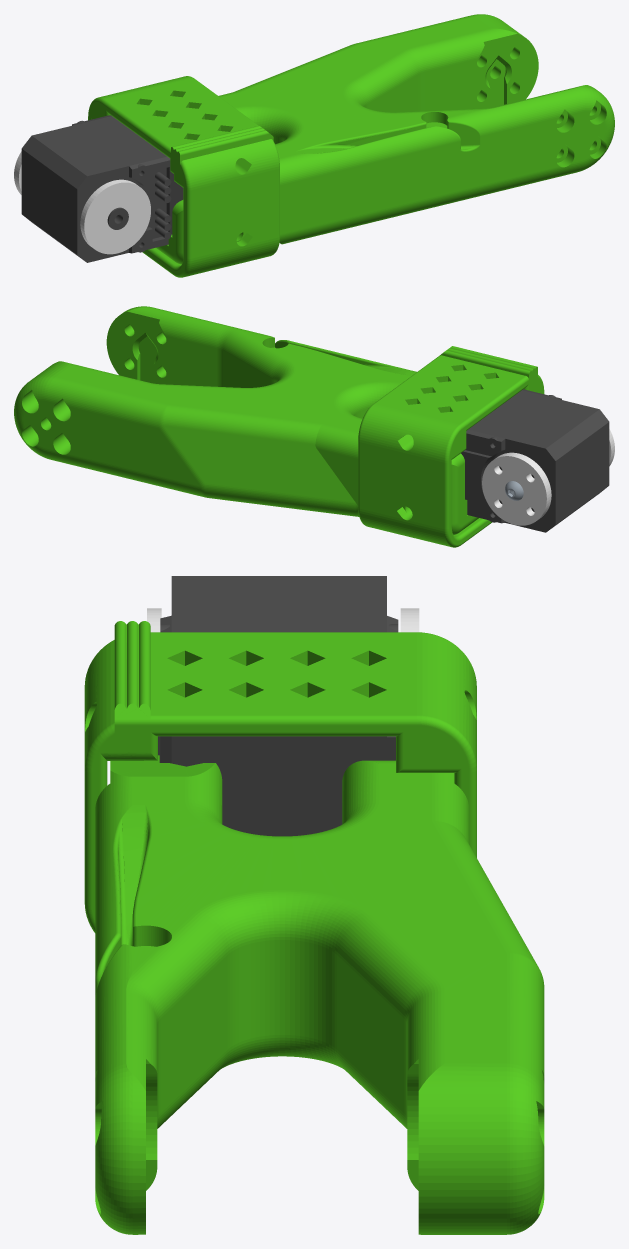
File: arm1_link2.obj
3 renders of one model, top to bottom at view 1: azimuth 30°, elevation 25°; view 2: azimuth 150°, elevation 25°; view 3: azimuth 270°, elevation 25°, orthographic. The views are drawn at different scales.
Visible parts, largest first — view 1: arm1_link2_so_arm100_08k_mirror_21, arm1_link2_so_arm100_08k_mirror__2_22, arm1_link2_sts3215_servo_25, arm1_link2_passive_horn_23; view 2: arm1_link2_so_arm100_08k_mirror_21, arm1_link2_so_arm100_08k_mirror__2_22, arm1_link2_sts3215_servo_25, arm1_link2_driven_horn_26; view 3: arm1_link2_so_arm100_08k_mirror_21, arm1_link2_so_arm100_08k_mirror__2_22, arm1_link2_sts3215_servo_25.
Part boxes in pixels (<box>): arm1_link2_so_arm100_08k_mirror_21: <box>156,14,614,264</box>; arm1_link2_so_arm100_08k_mirror__2_22: <box>88,76,279,277</box>; arm1_link2_sts3215_servo_25: <box>21,115,183,262</box>; arm1_link2_passive_horn_23: <box>80,179,150,254</box>; arm1_link2_so_arm100_08k_mirror_21: <box>14,306,478,534</box>; arm1_link2_so_arm100_08k_mirror__2_22: <box>358,346,544,547</box>; arm1_link2_sts3215_servo_25: <box>461,389,609,532</box>; arm1_link2_driven_horn_26: <box>482,452,551,525</box>; arm1_link2_so_arm100_08k_mirror_21: <box>95,755,544,1234</box>; arm1_link2_so_arm100_08k_mirror__2_22: <box>84,621,476,932</box>; arm1_link2_sts3215_servo_25: <box>158,576,398,836</box>.
Size of the model in its own units: 0.1571 by 0.0369 by 0.0614.
